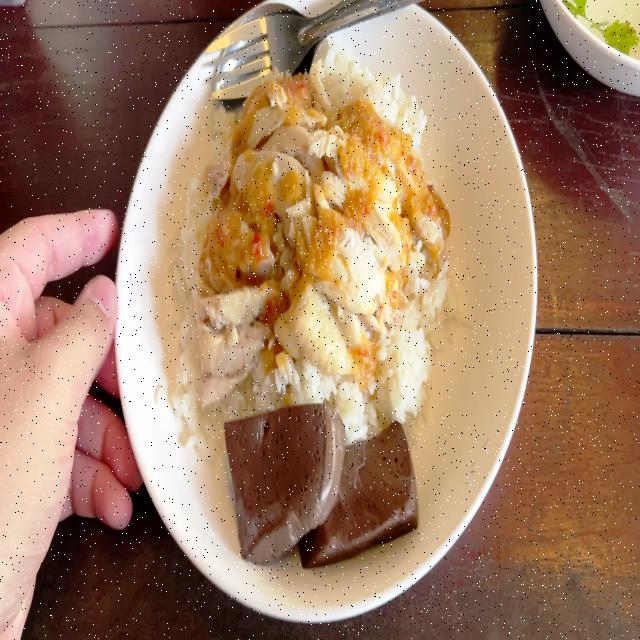boiled_chicken: (230, 70, 380, 380)
boiled_chicken_blood_jelly: (223, 394, 342, 555), (298, 426, 418, 562)
chicken_rice: (170, 54, 463, 580)
